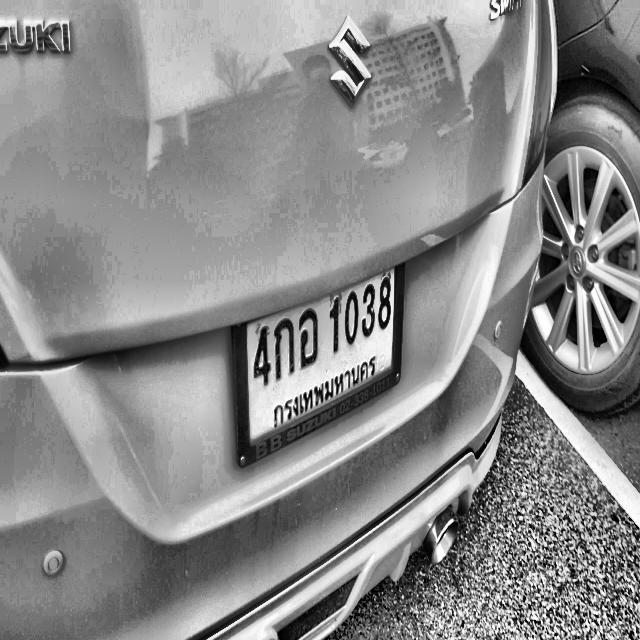license-plate: (228, 252, 408, 474)
